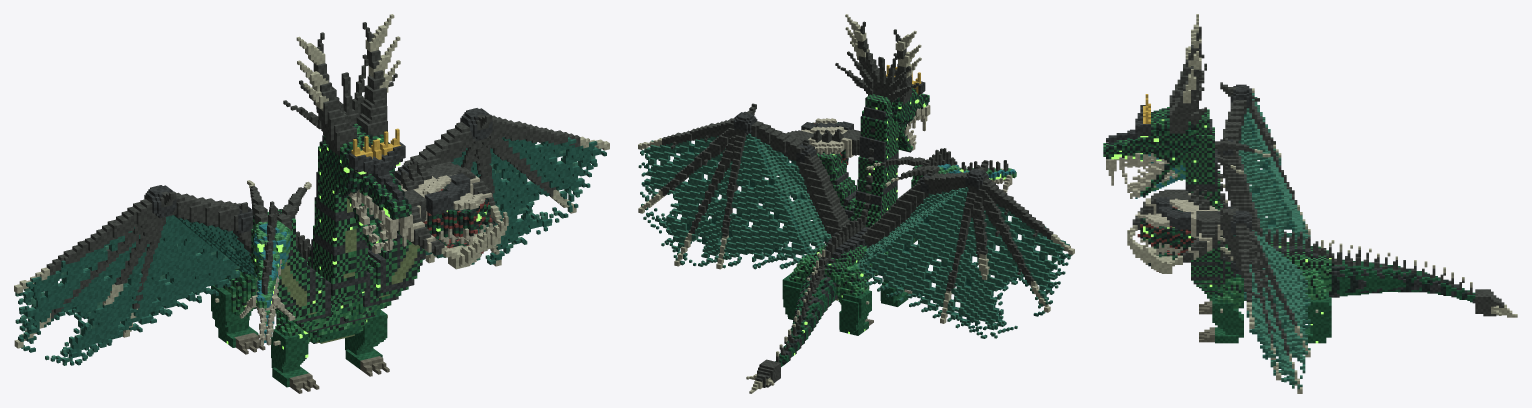
The model's file is voxel_dragon_3head.glb.
The picture shows the model from 3 angles, left to right: view 1: azimuth 30°, elevation 25°; view 2: azimuth 150°, elevation 25°; view 3: azimuth 270°, elevation 25°; orthographic projection. The views are drawn at different scales.
Parts seen in each view (by area): view 1: Dragon3_Body, Dragon3_Glow; view 2: Dragon3_Body; view 3: Dragon3_Body.
Part boxes in pixels (x1,y1,x2,y2): Dragon3_Body: (14,14,609,393); Dragon3_Glow: (226,138,486,357); Dragon3_Body: (638,14,1074,393); Dragon3_Body: (1103,14,1517,393).
Bounding box in the file's own units: 105 × 60.5 × 78.
